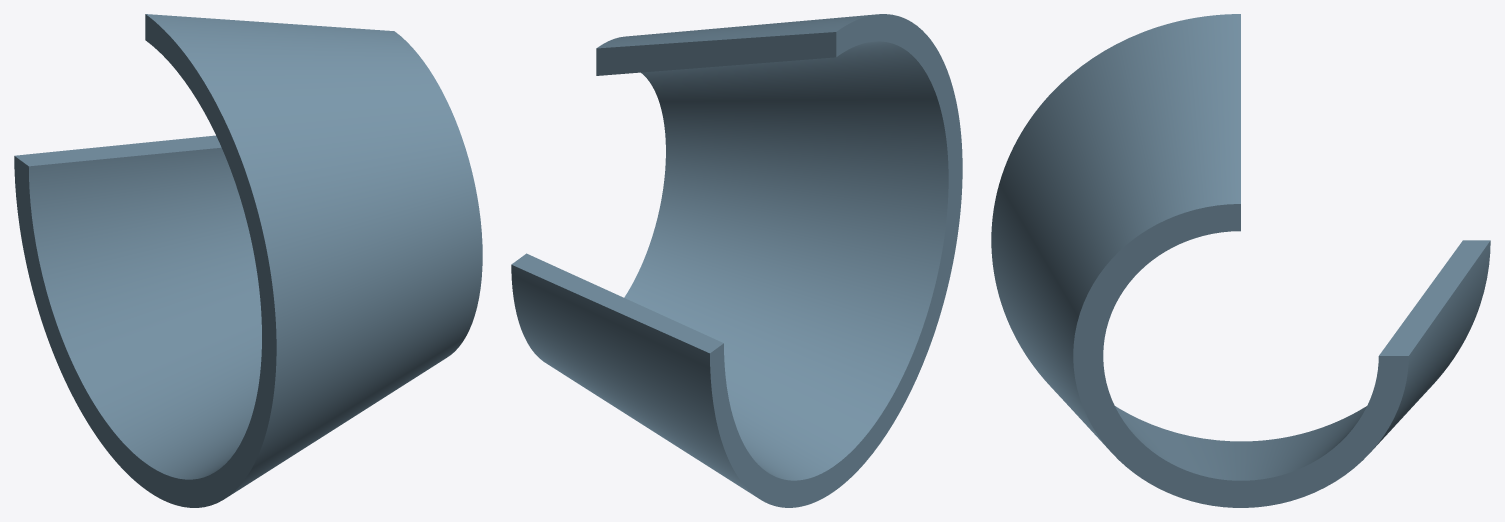
File: nozzle-housing.glb
The picture shows the model from 3 angles, left to right: view 1: azimuth 30°, elevation 25°; view 2: azimuth 150°, elevation 25°; view 3: azimuth 270°, elevation 25°; orthographic projection. The views are drawn at different scales.
Parts seen in each view (by area): view 1: nozzle-housing - shell; view 2: nozzle-housing - shell; view 3: nozzle-housing - shell.
Boxes of the visible parts, bbox=[...] form: nozzle-housing - shell: bbox=[14, 14, 482, 507]; nozzle-housing - shell: bbox=[511, 14, 962, 507]; nozzle-housing - shell: bbox=[991, 14, 1490, 507].
Bounding box in the file's own units: 1.02 × 1.86 × 1.86.
